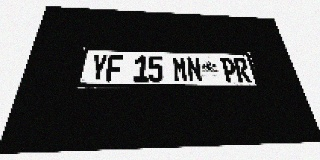1: (133, 55, 148, 82)
5: (149, 56, 164, 82)
F: (105, 55, 123, 82)
M: (172, 56, 188, 82)
N: (186, 57, 203, 82)
P: (220, 57, 238, 83)
R: (233, 58, 252, 83)
Y: (89, 54, 108, 82)
